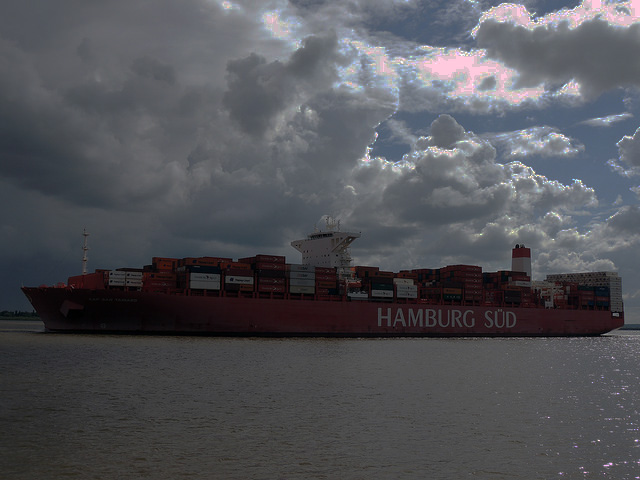container_ship: (22, 217, 631, 341)
